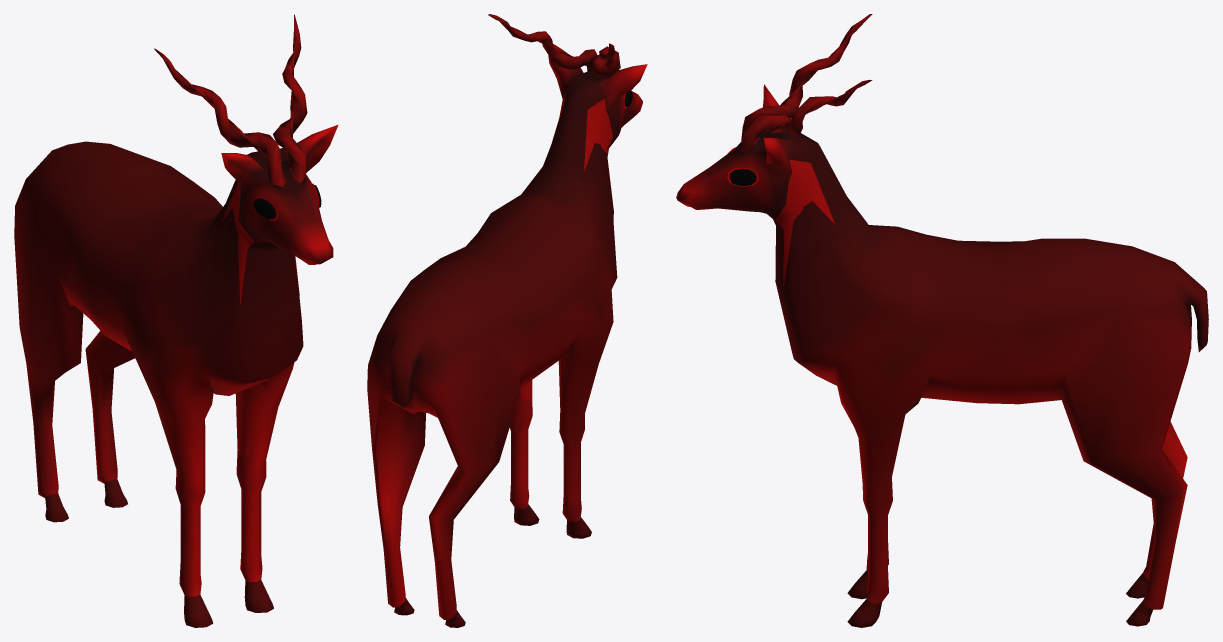
File: Animals_Blackbuck.fbx
The picture shows the model from 3 angles, left to right: view 1: azimuth 30°, elevation 25°; view 2: azimuth 150°, elevation 25°; view 3: azimuth 270°, elevation 25°; orthographic projection. The views are drawn at different scales.
Parts seen in each view (by area): view 1: alt596, alt597; view 2: alt596, alt597; view 3: alt596, alt597.
Boxes of the visible parts, x1,y1,x2,y2 form: alt596: (14,14,338,627); alt597: (200,182,319,466); alt596: (367,14,647,627); alt597: (520,90,612,407); alt596: (676,14,1208,627); alt597: (678,128,835,288).
Bounding box in the file's own units: 49.59 × 182 × 157.
